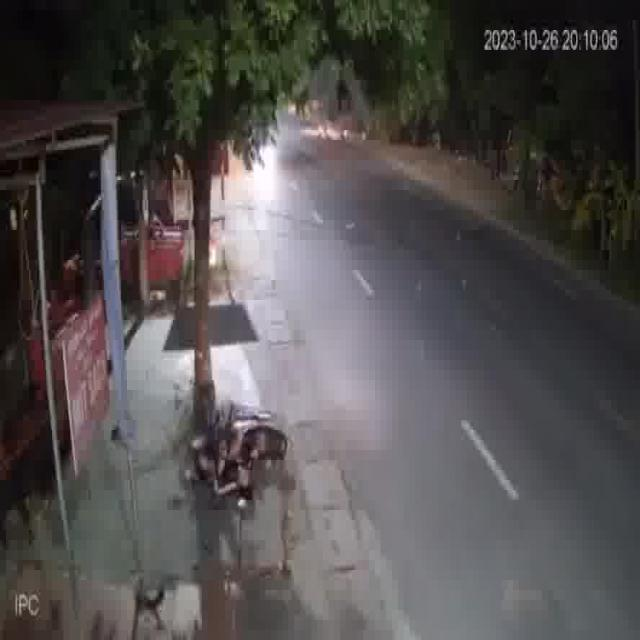multiple_accident: (171, 374, 295, 520)
